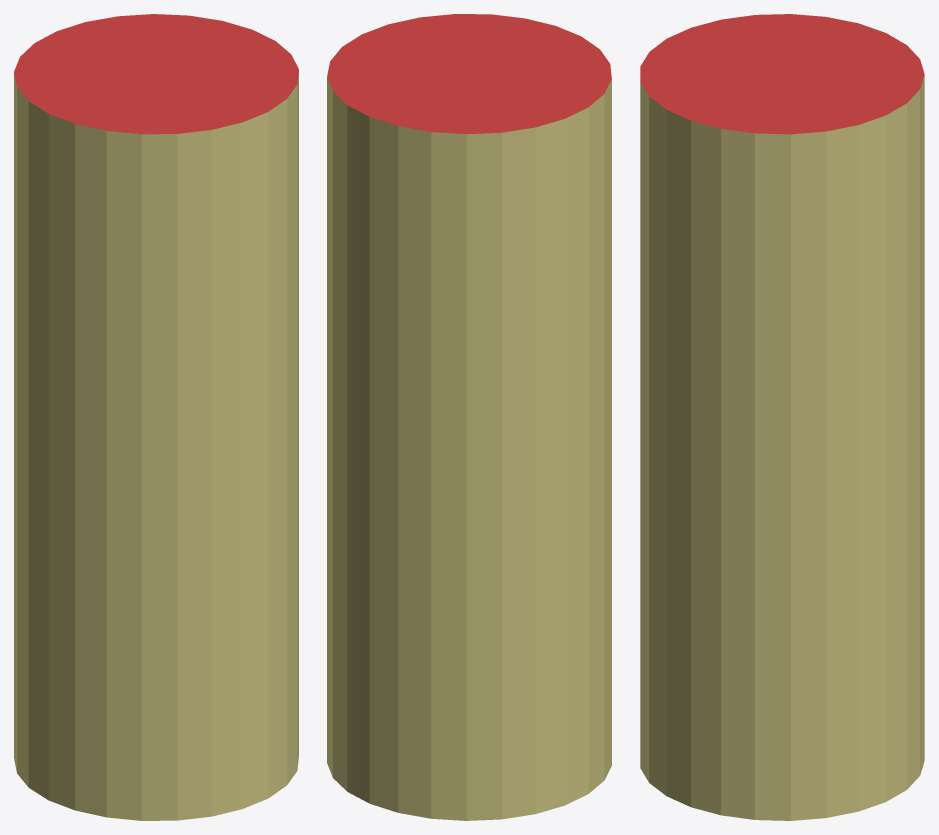
3 views of the same model, side by side, from view 1: azimuth 30°, elevation 25°; view 2: azimuth 150°, elevation 25°; view 3: azimuth 270°, elevation 25° (orthographic).
Bounding box in the file's own units: 3.46 × 3.45 × 9.19.
